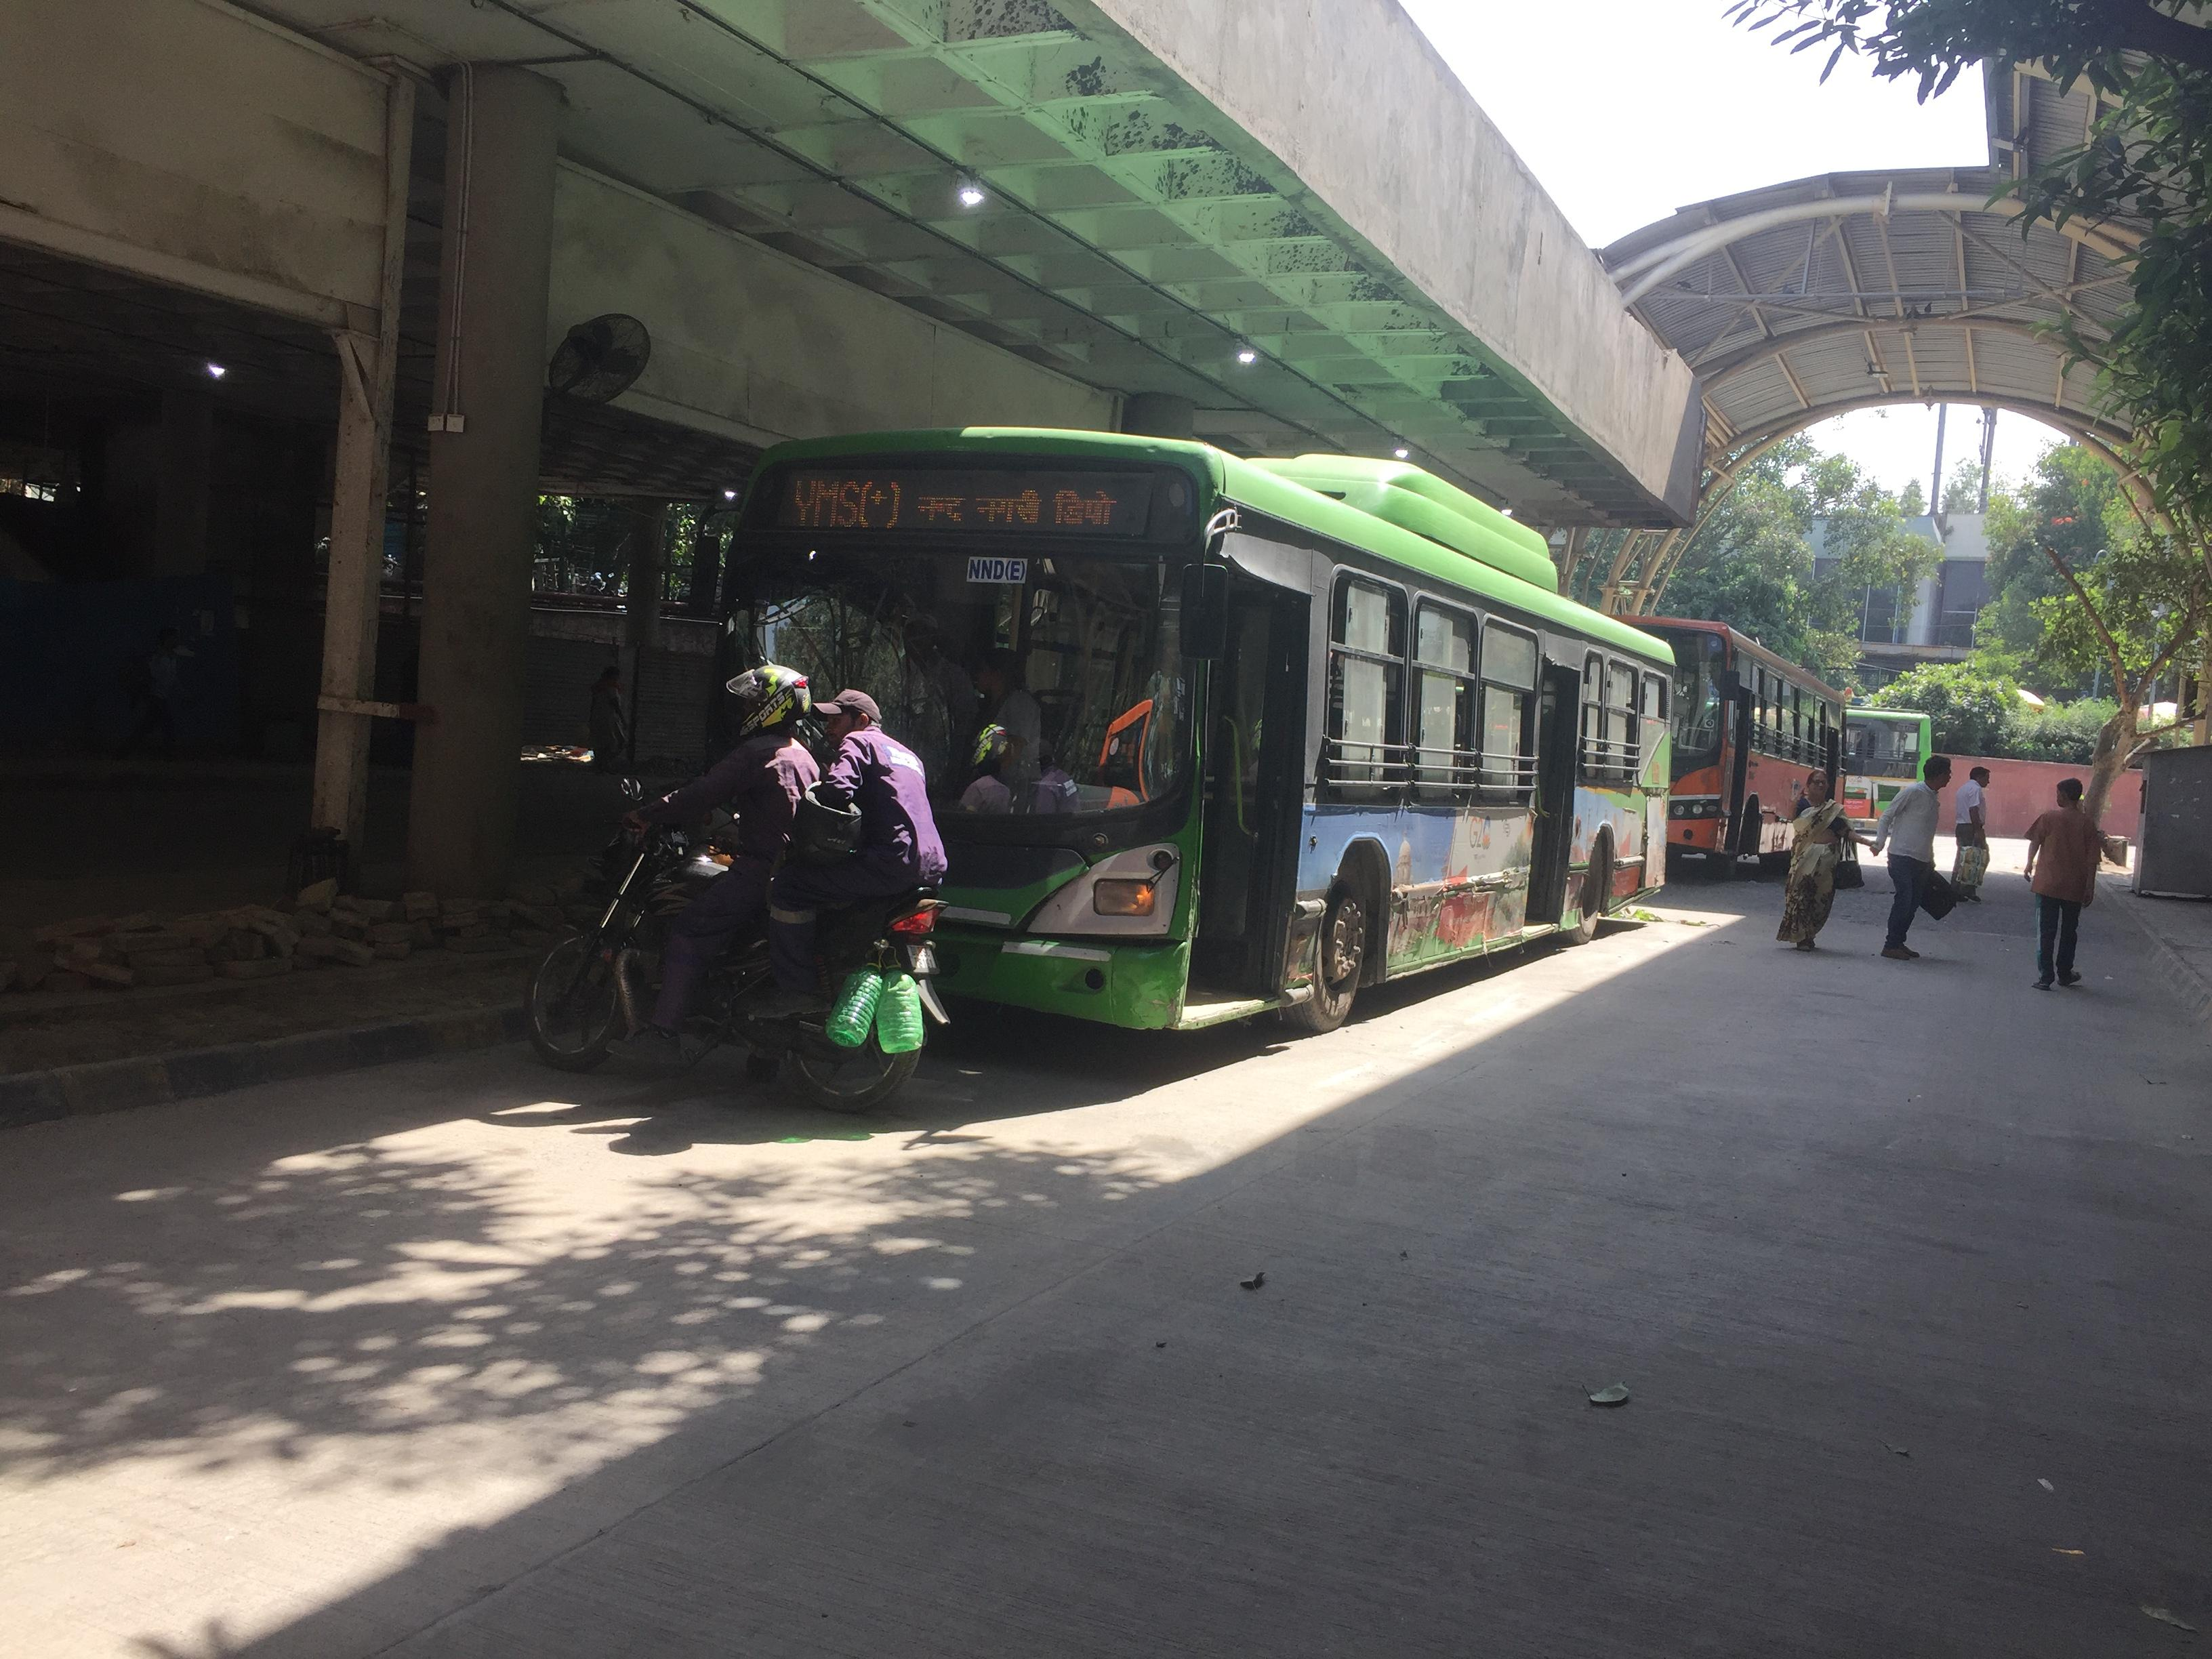Bus: (712, 406, 1230, 1054)
Display Board: (735, 448, 1230, 570)
